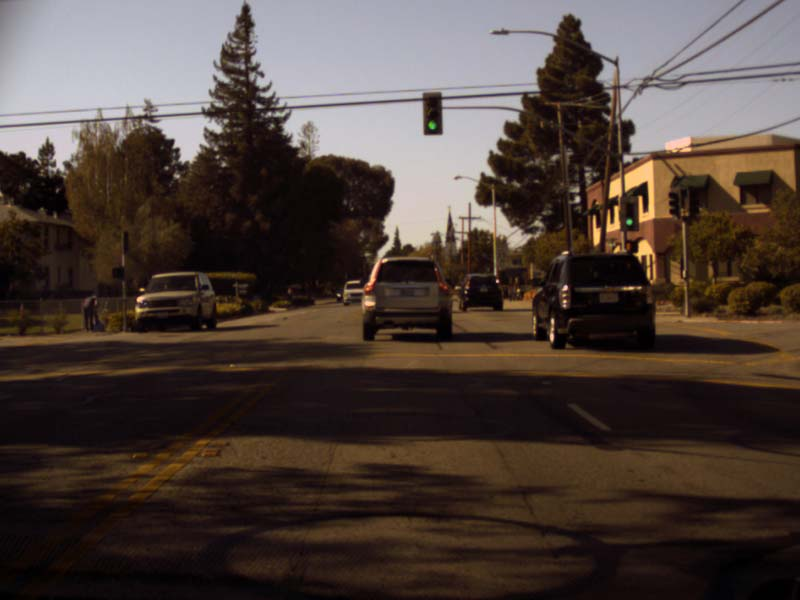Green: (424, 96, 439, 133), (623, 200, 635, 229)
